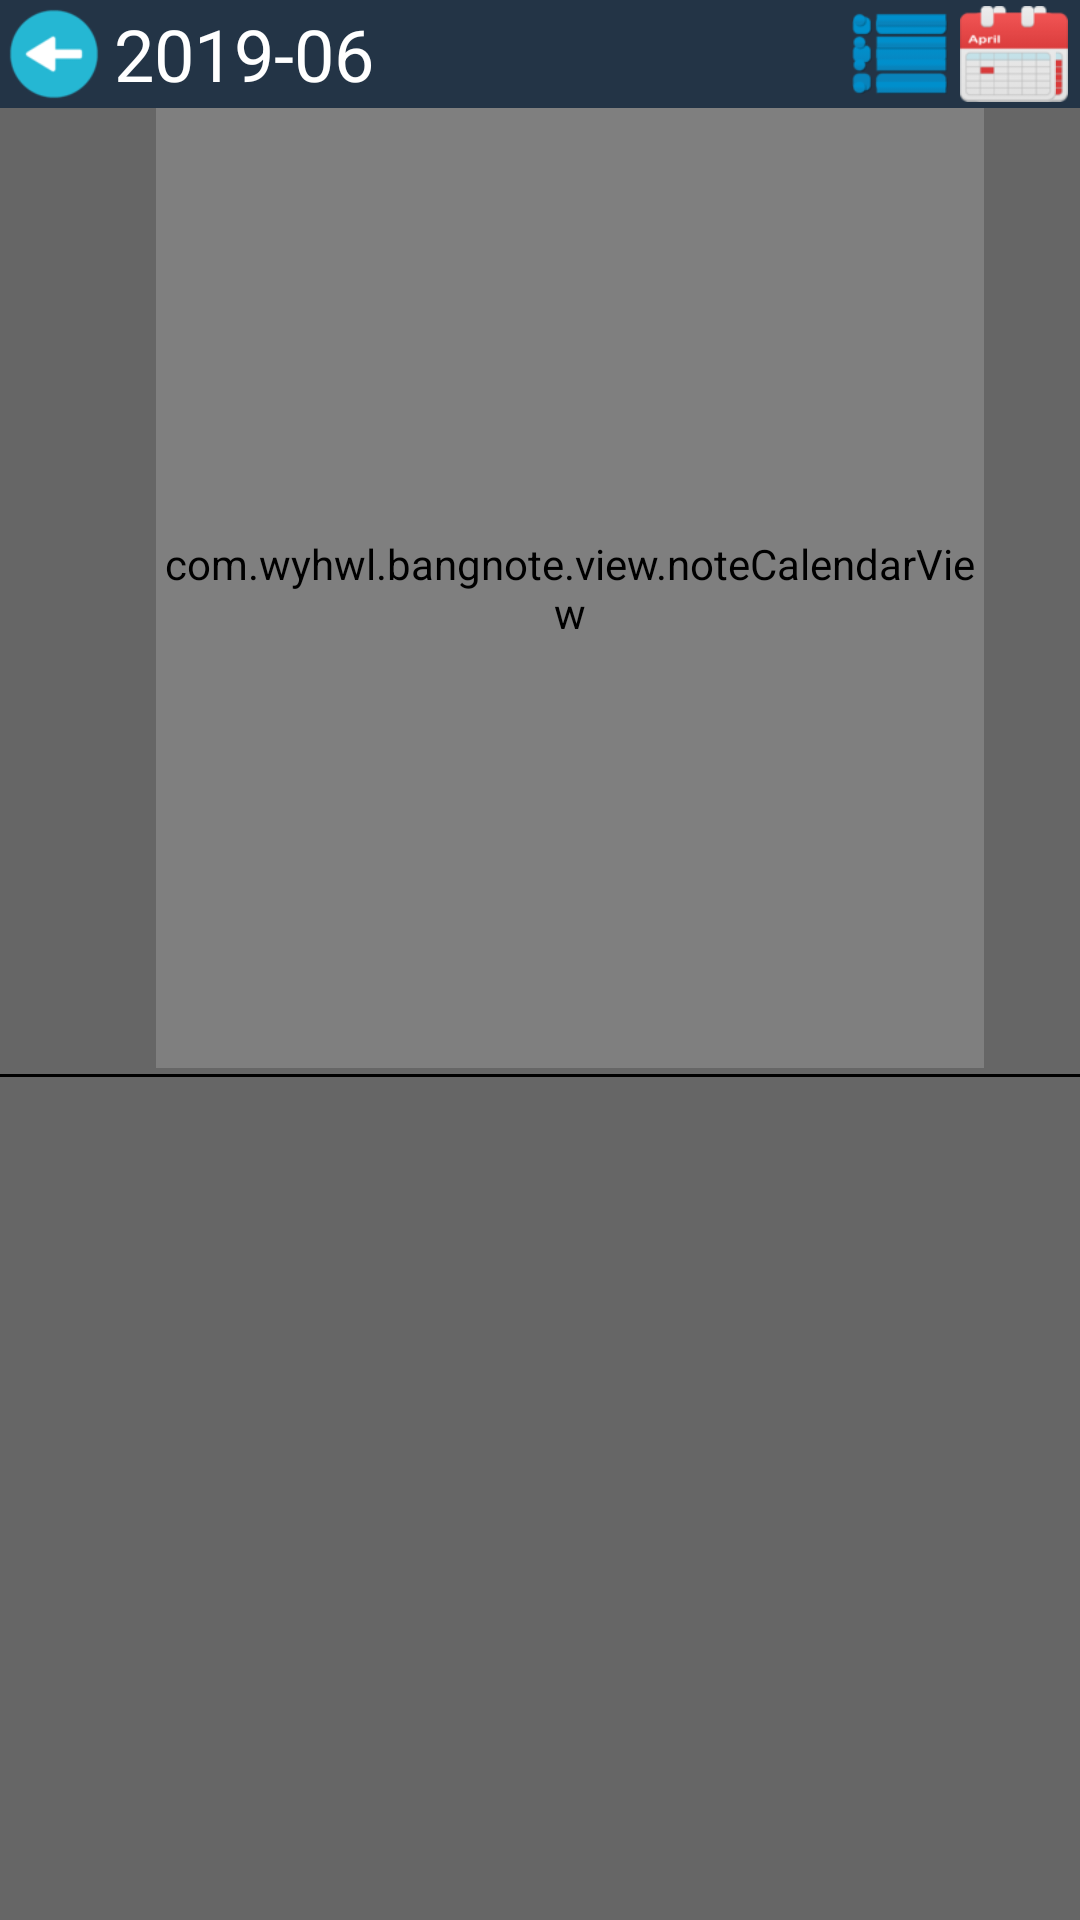

Screen size 1080 × 1920. Icon name, then its center in pixels as point (x, y):
back: point (54, 54)
